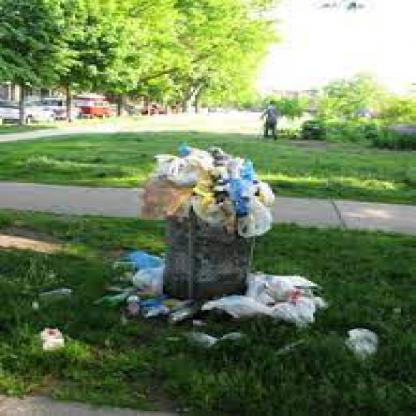Garbage: (144, 143, 274, 222), (107, 250, 174, 331), (246, 276, 336, 332), (212, 162, 278, 225), (182, 323, 255, 358), (137, 154, 204, 183), (326, 330, 386, 362), (142, 182, 184, 216), (54, 323, 61, 355)
